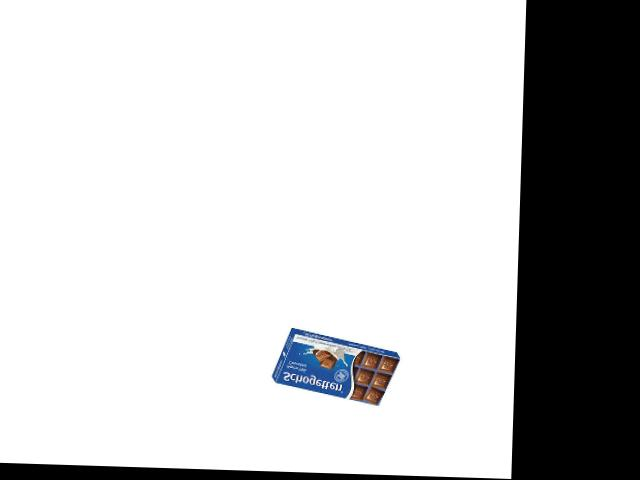chocolate: (268, 337, 402, 406)
